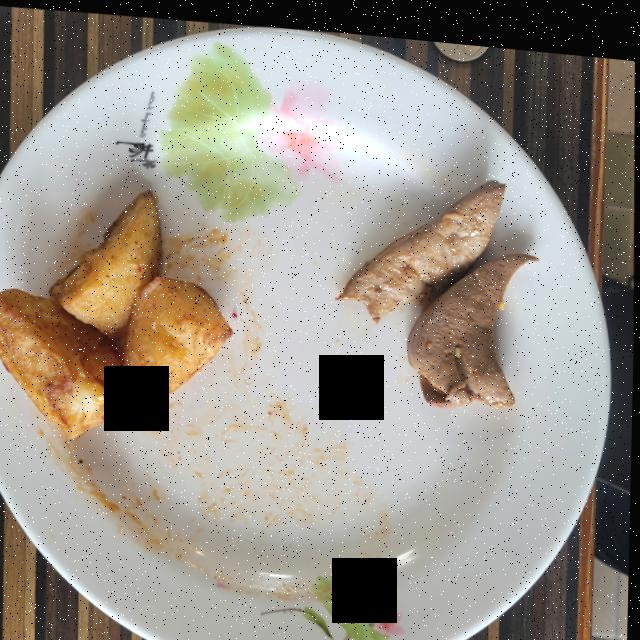coin: (434, 33, 487, 52)
fried potato: (0, 188, 233, 436)
pig liver: (339, 169, 539, 398)
